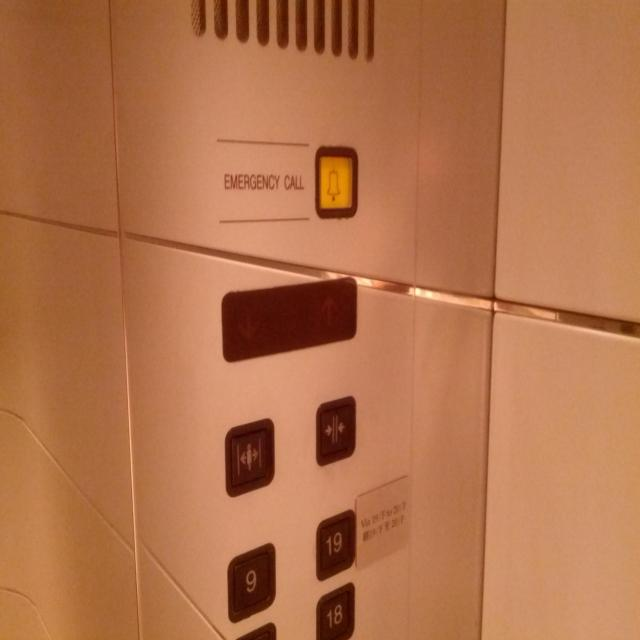18: (313, 578, 358, 640)
19: (313, 506, 359, 584)
9: (225, 539, 278, 626)
alarm: (312, 140, 360, 223)
close: (313, 392, 358, 469)
led: (218, 274, 360, 366)
open: (222, 415, 277, 500)
